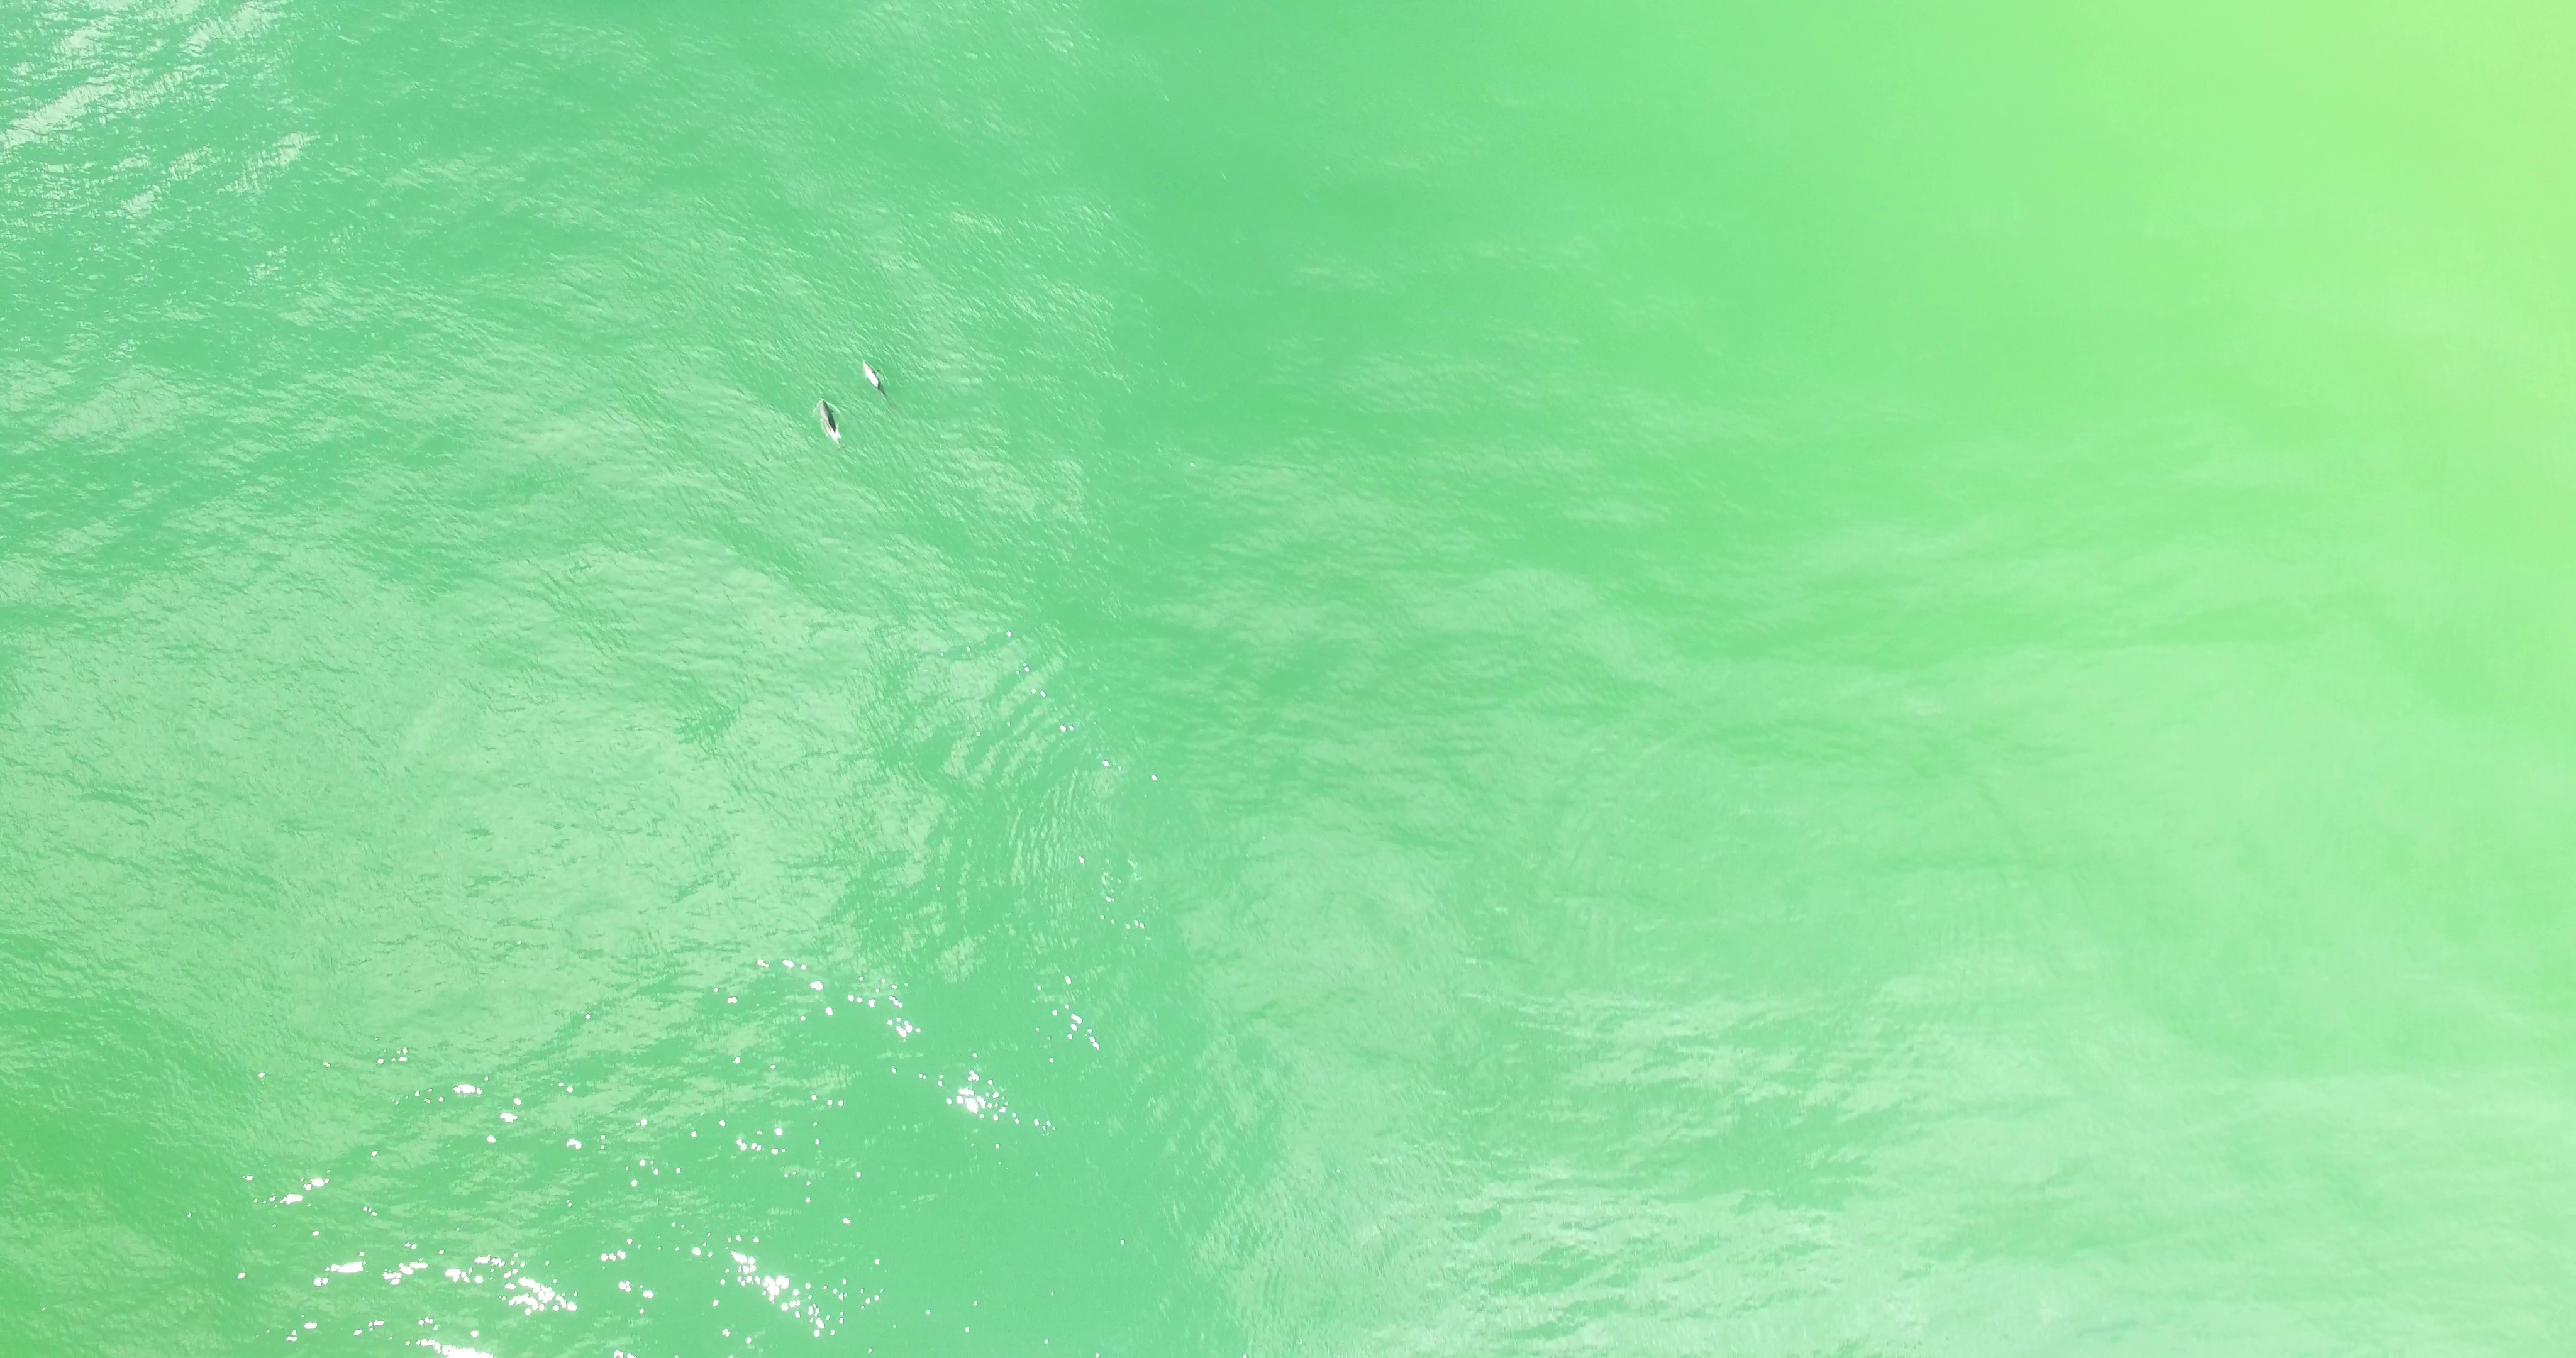dolphin: (854, 360, 893, 402), (813, 400, 848, 445)
